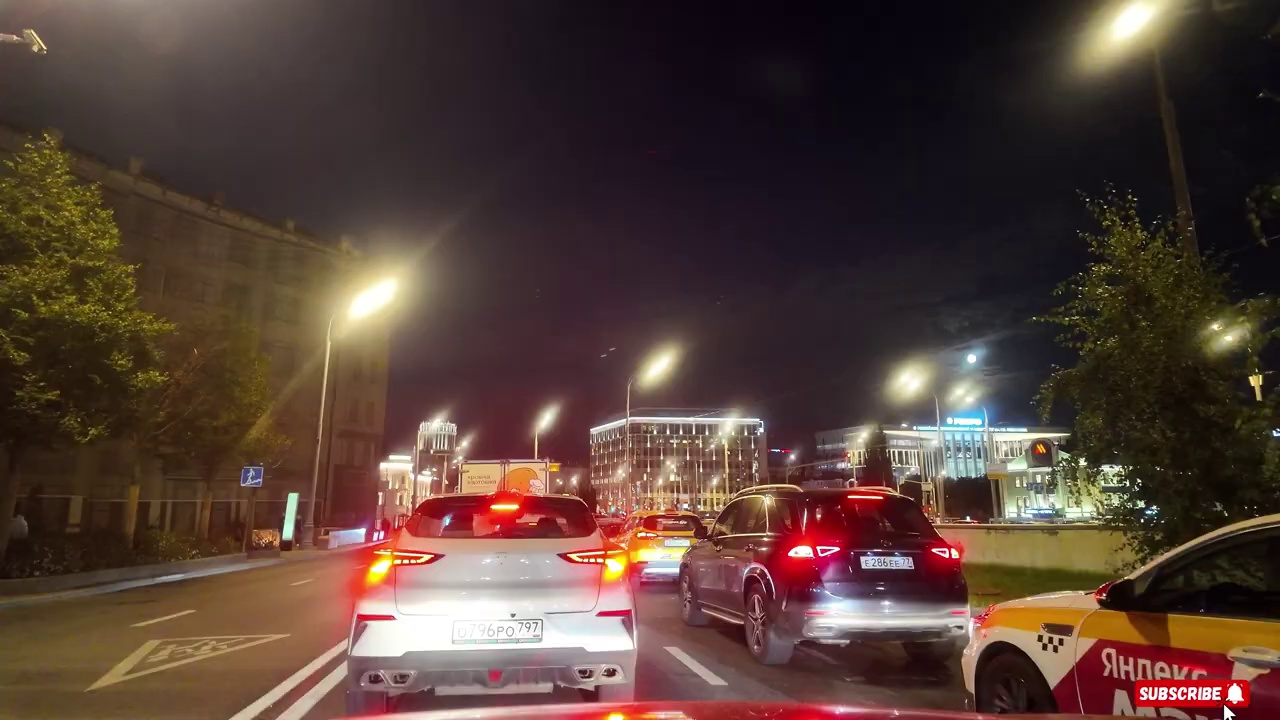acesa: (344, 278, 397, 326), (888, 357, 936, 408), (634, 345, 683, 394), (531, 405, 562, 439)
